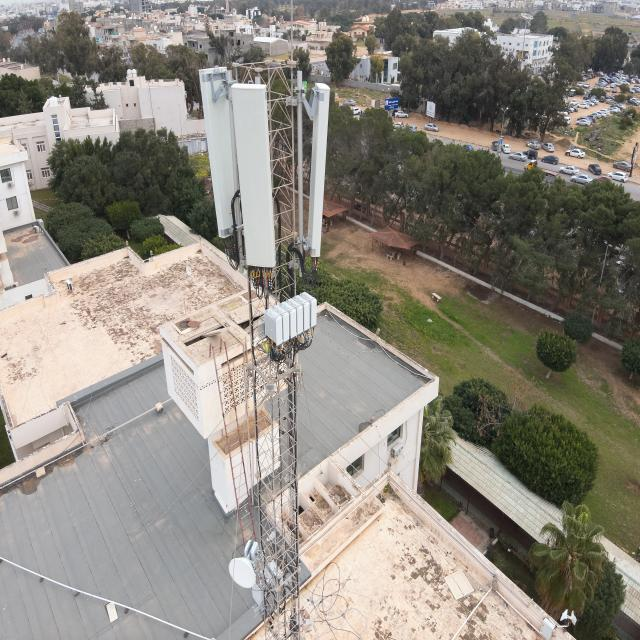antenna: (230, 82, 277, 269), (196, 65, 239, 238), (308, 80, 332, 261)
lighnig-rad: (288, 0, 297, 104)
microware-dish: (228, 539, 258, 588)
power-box: (251, 560, 283, 606)
radio-unit: (263, 288, 320, 343)
